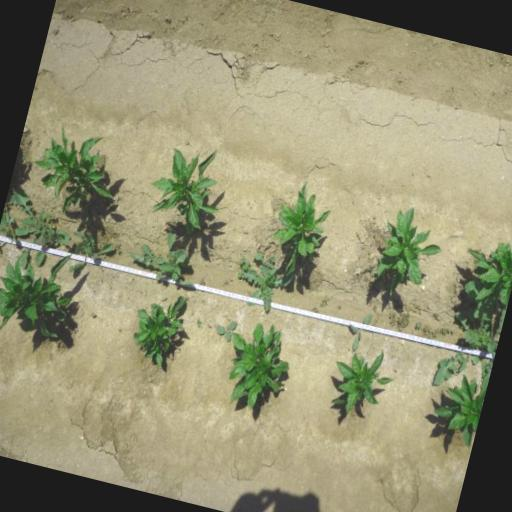plant: (23, 114, 131, 222), (138, 134, 236, 241), (365, 198, 452, 308), (216, 314, 302, 420), (0, 253, 80, 351), (123, 283, 194, 373), (271, 178, 332, 277), (326, 347, 395, 420), (430, 373, 488, 448), (466, 234, 512, 306)
weed: (122, 218, 206, 295), (431, 301, 501, 389), (14, 186, 72, 271), (66, 224, 118, 282), (243, 267, 295, 315), (342, 308, 374, 354), (0, 200, 21, 264), (213, 316, 237, 344), (252, 251, 280, 275), (232, 255, 251, 284), (394, 308, 414, 330), (386, 310, 400, 330), (318, 292, 332, 310), (18, 154, 33, 169), (420, 324, 432, 337), (194, 316, 204, 329), (430, 326, 440, 339), (114, 240, 122, 254), (370, 302, 378, 314), (414, 320, 422, 330), (440, 326, 448, 336), (312, 305, 320, 313), (200, 278, 206, 286), (362, 274, 368, 282)
